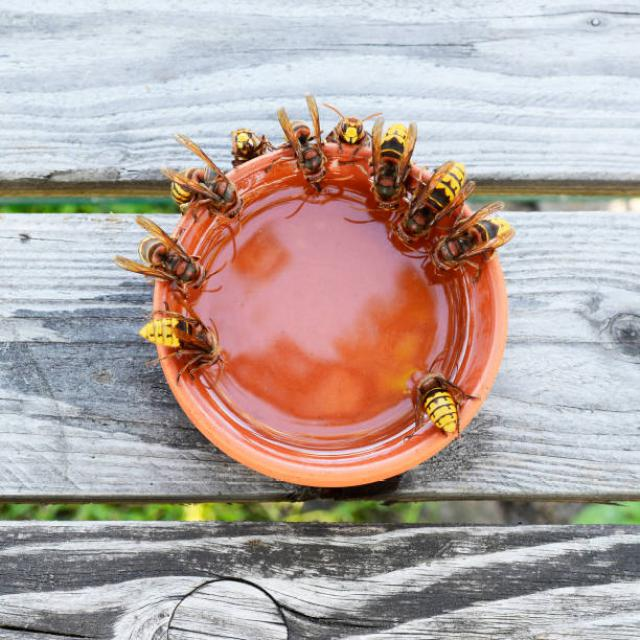Vespa Crabro: (135, 300, 259, 395), (143, 143, 263, 225), (117, 213, 223, 299), (397, 346, 480, 445), (432, 196, 518, 286), (273, 98, 343, 200), (400, 156, 480, 245), (372, 110, 433, 225), (216, 117, 279, 163), (327, 98, 375, 147)
